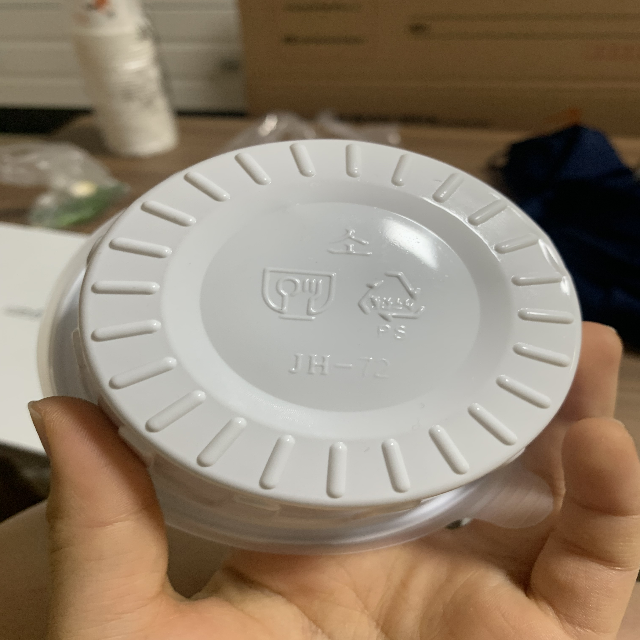ps: (358, 267, 430, 343)
